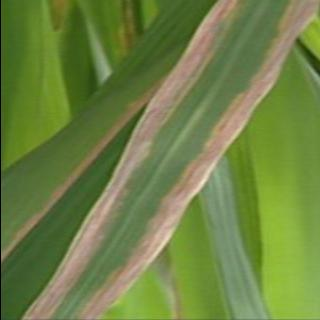Hawar-Daun: (85, 1, 316, 317), (29, 1, 236, 318)
